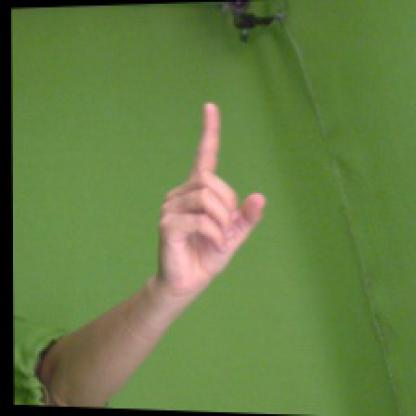Hand: (159, 103, 267, 293)
